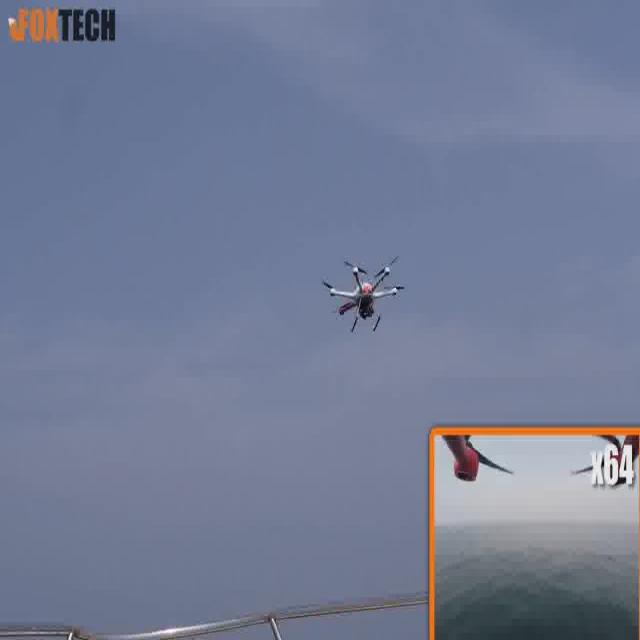drone: (321, 251, 405, 334)
